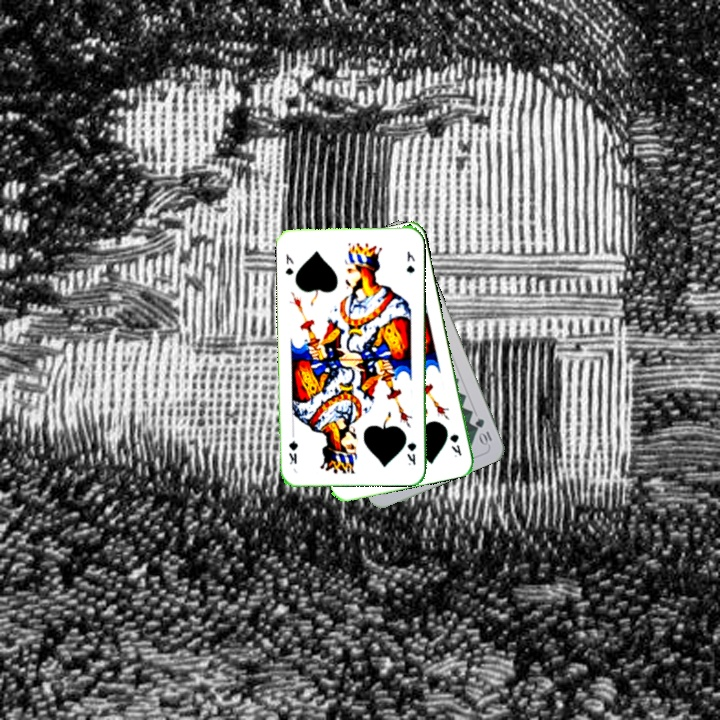G10: (471, 414, 495, 448)
GK: (445, 430, 464, 459), (403, 439, 418, 468), (281, 250, 296, 278)
